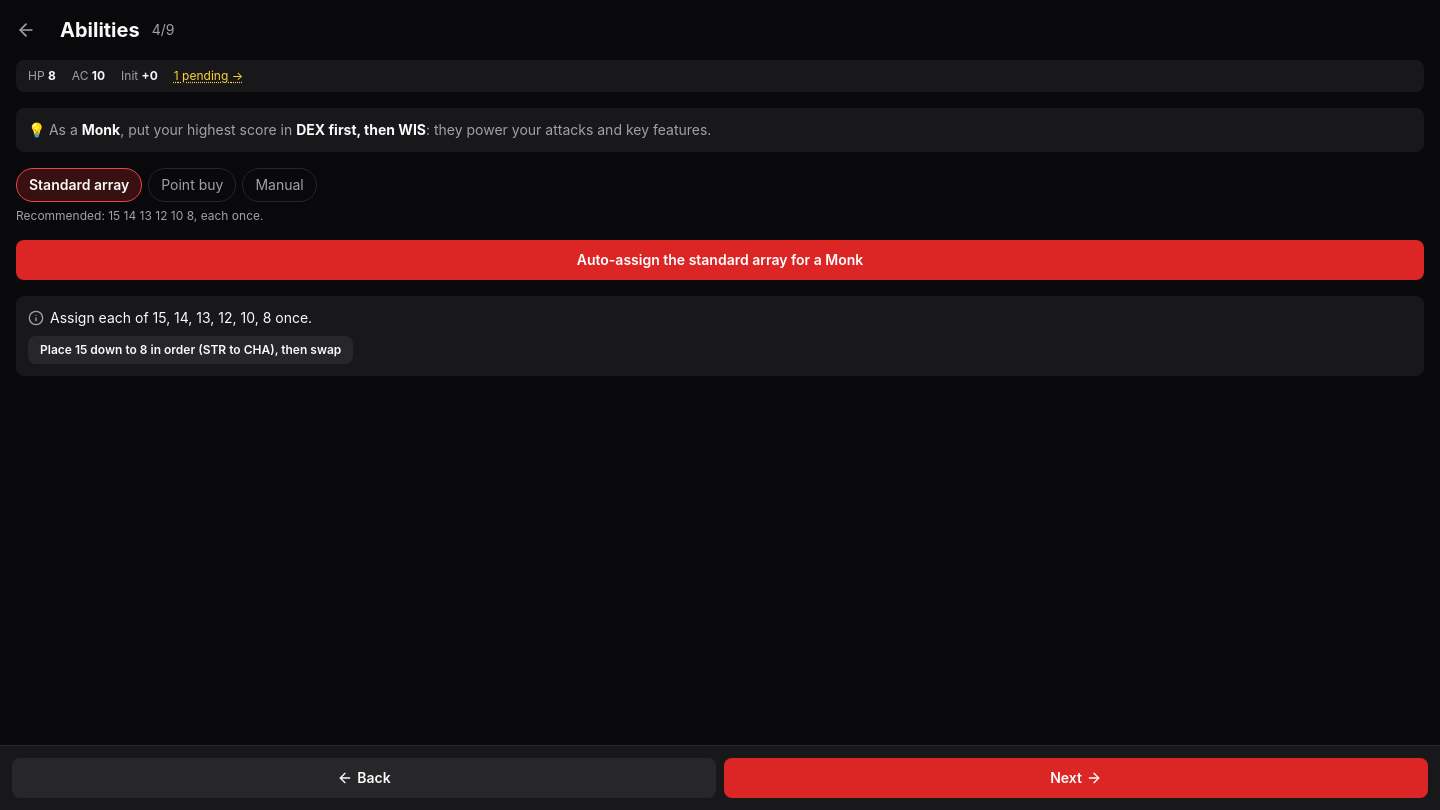
changes that take something away › the abilities step › standard array › seeds an unassigned draft in order, ready to swap
The width and height of the screenshot is (1440, 810).
expect the text "Assign each of 15, 14, 13, 12, 10, 8 once." is shown: met, box [28,309,312,326]
expect the field labelled "Strength (STR)" is not shown: met
Step 1. Click the button "Place 15 down to 8 in order (STR to CHA), then swap" → (191, 350), box [28,336,353,364]
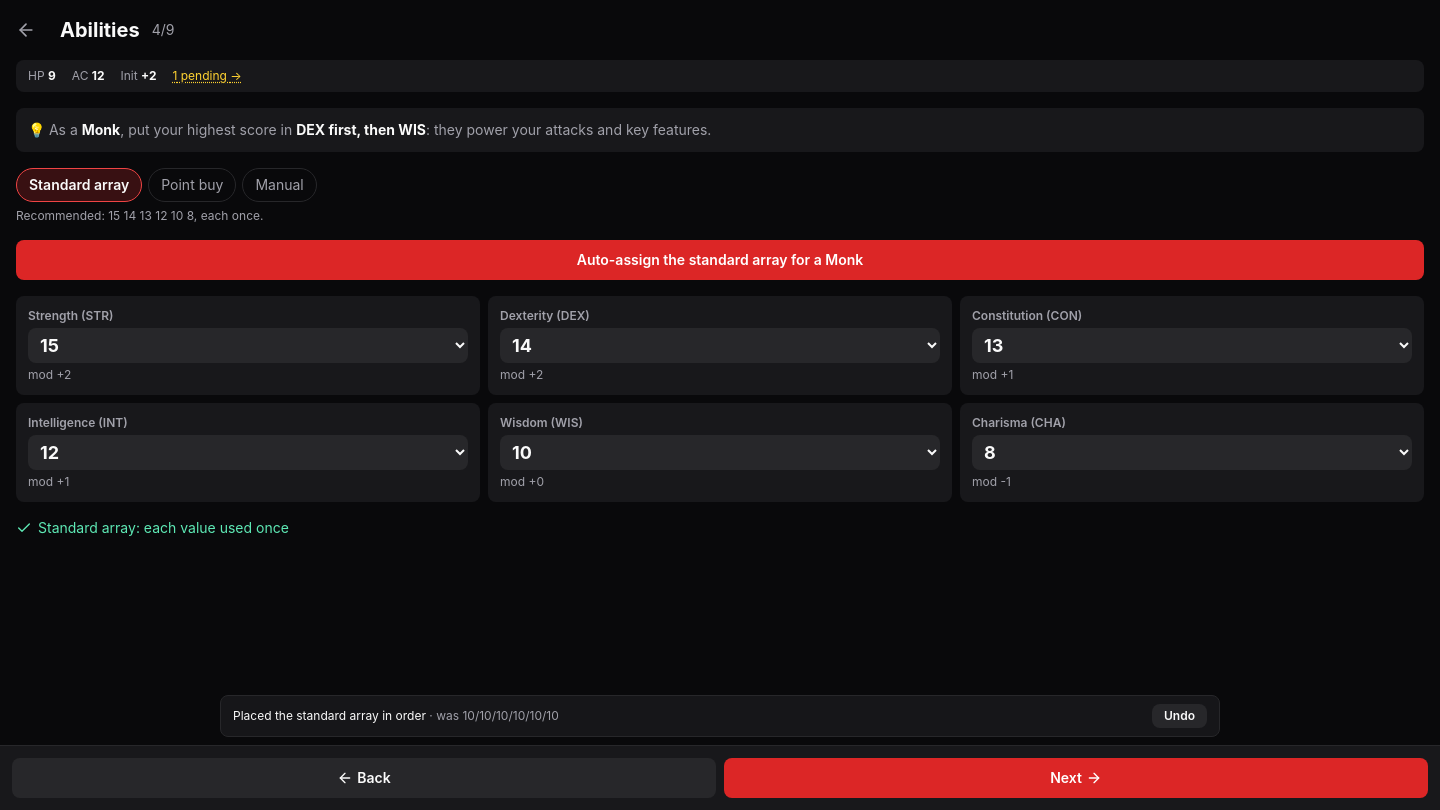
expect the dropdown labelled "Strength (STR)" is shown: met, box [28,328,468,363]
